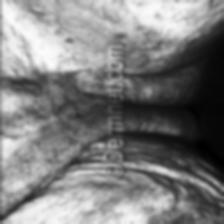Non-Cancerous Skin Condition: (0, 3, 100, 209), (129, 28, 180, 180), (119, 193, 214, 224), (116, 0, 224, 20)
